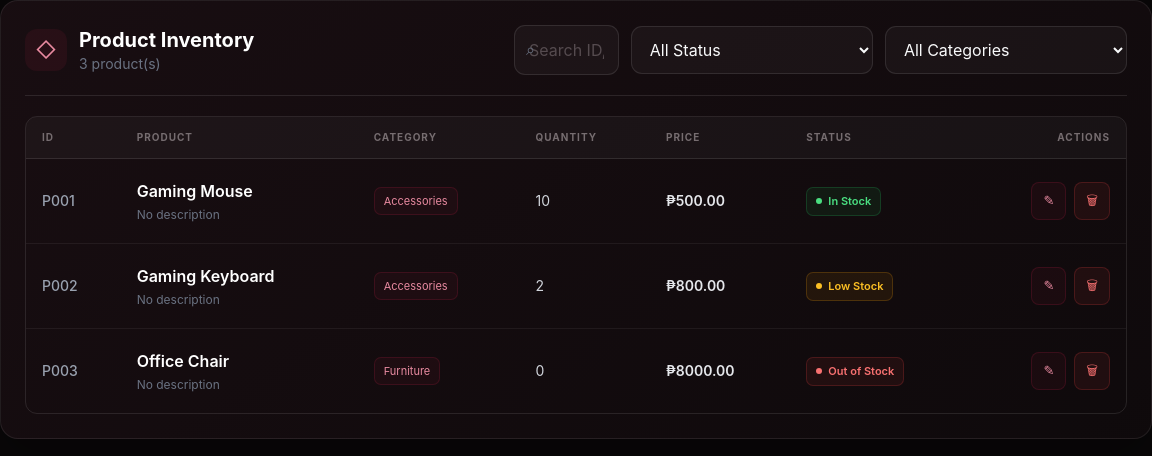
Scenario: Inventory Management System › should combine search and status filtering correctly
Type "Gaming" into the field with placeholder "Search ID, name, or category..." at (566, 50), box [514, 25, 619, 75]
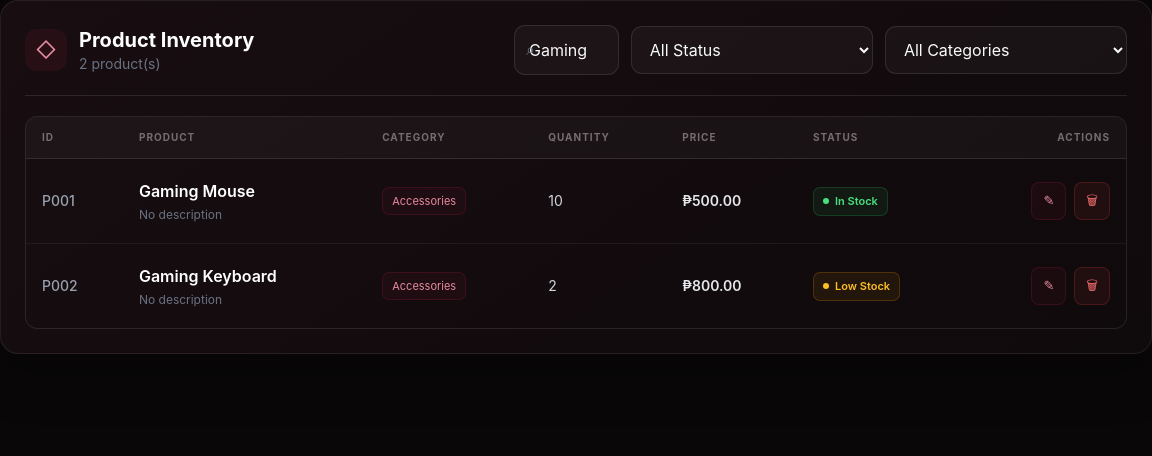
Select "Low Stock" in the 1st dropdown at (752, 50), box [631, 26, 873, 74]
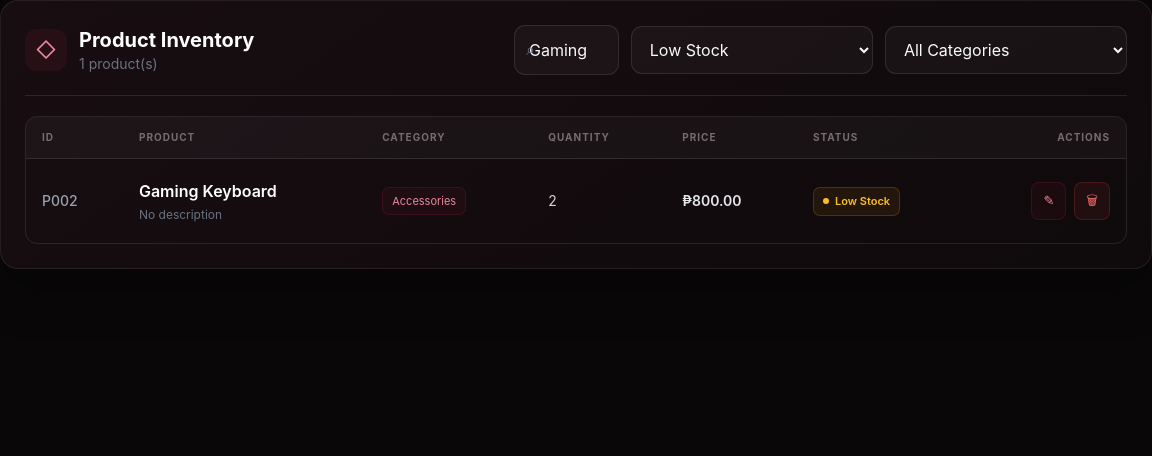
Expected: the text "Gaming Keyboard" is shown, [139, 181, 277, 201]
Result: the text "Gaming Mouse" is gone
